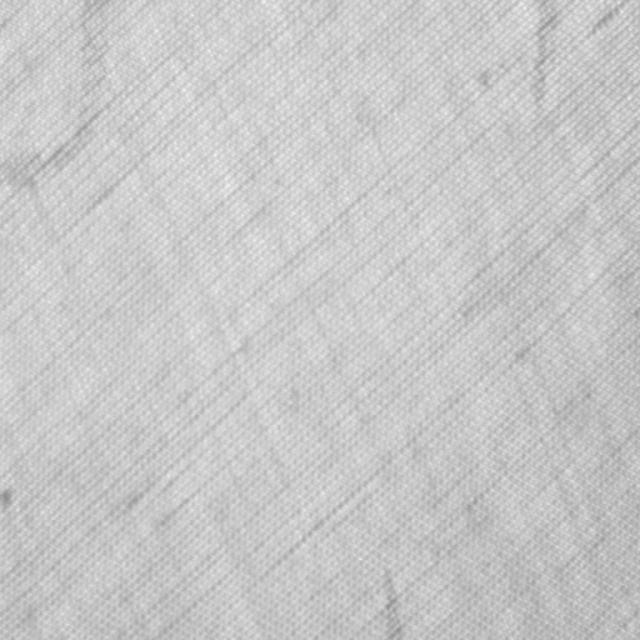oil spot: (0, 0, 108, 189), (527, 0, 561, 118), (382, 564, 402, 638)
